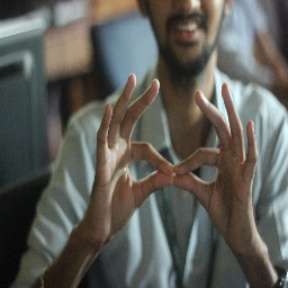B: (115, 115, 234, 218)
